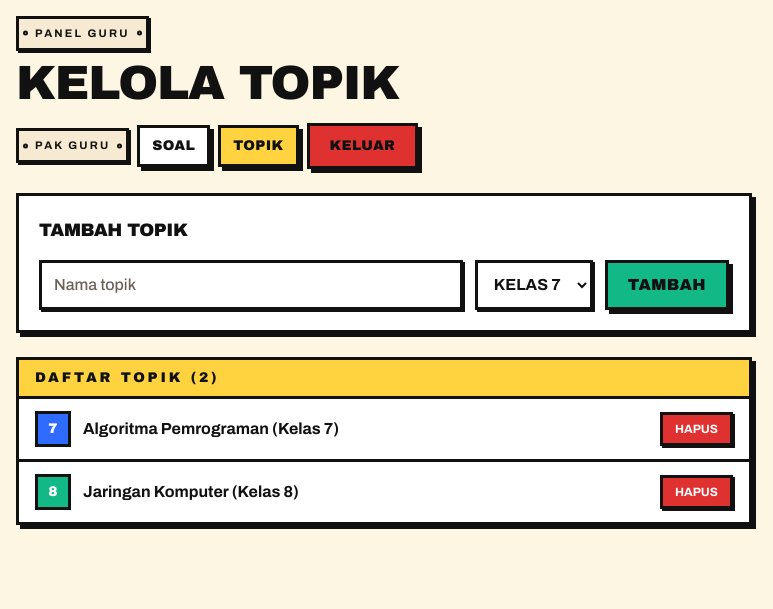
Test: Admin CRUD Pages › AdminTopics › adds a new topic and reloads topic list
The width and height of the screenshot is (773, 609).
Expected: the text "Algoritma Pemrograman (Kelas 7)" is shown, [83,420,339,436]
Type "Sistem Operasi" into the field with placeholder "Nama topik" at [251, 284], box [39,260,463,310]
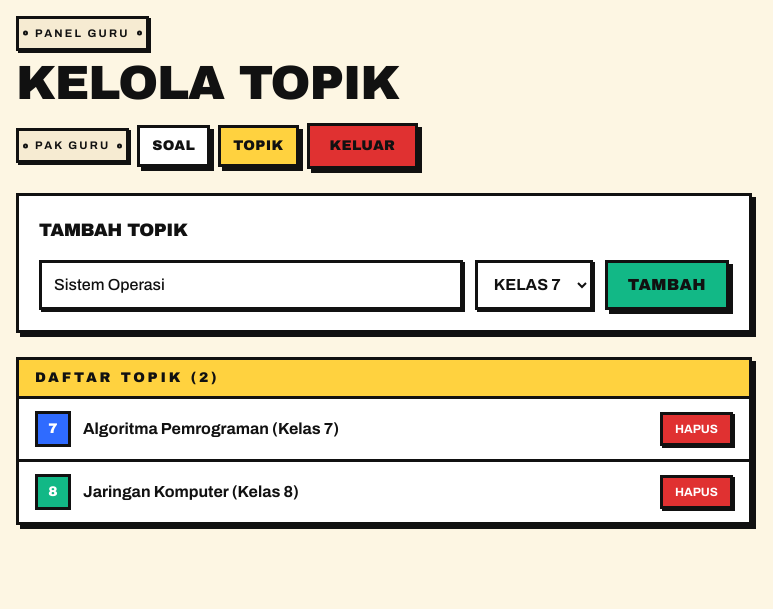
Select "Kelas 9" in the dropdown at [534, 284], box [475,260,593,310]
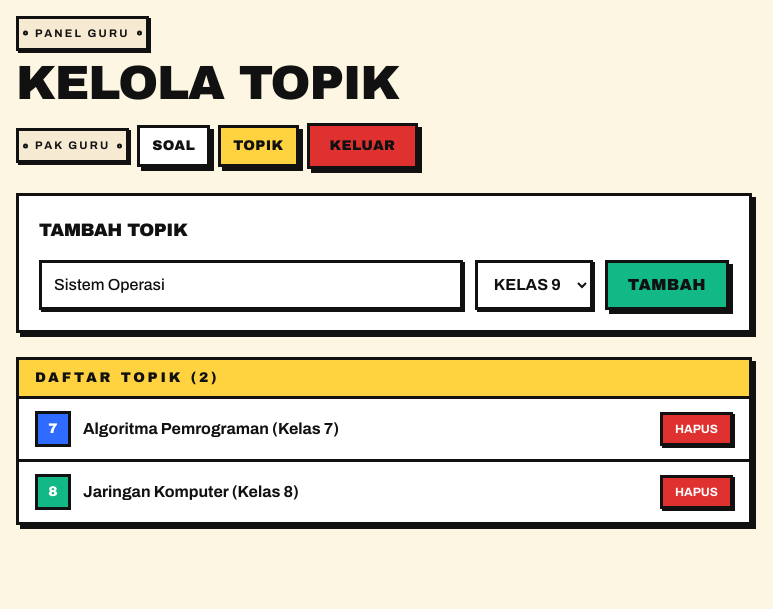
Click the button "Tambah" at [667, 284], box [605,260,729,310]
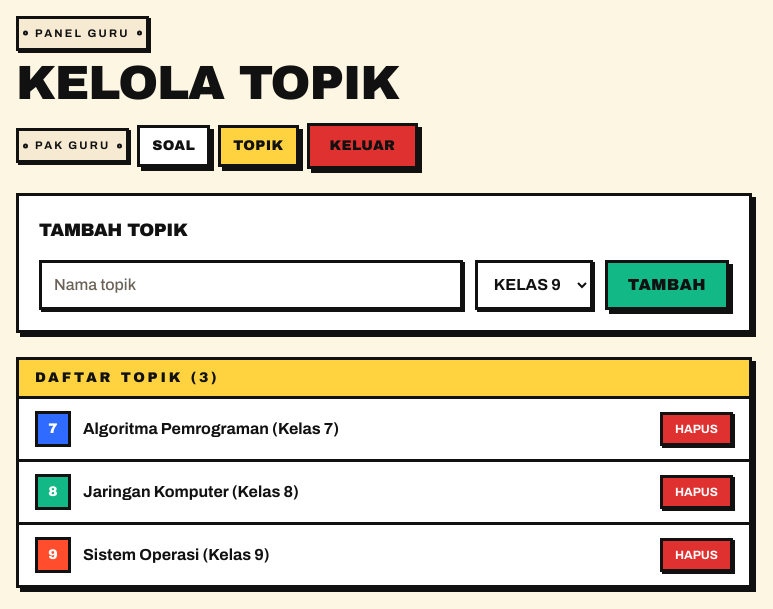
Expected: the field with placeholder "Nama topik" is empty, [39,260,463,310]
Expected: the text "Sistem Operasi (Kelas 9)" is shown, [83,546,270,562]
